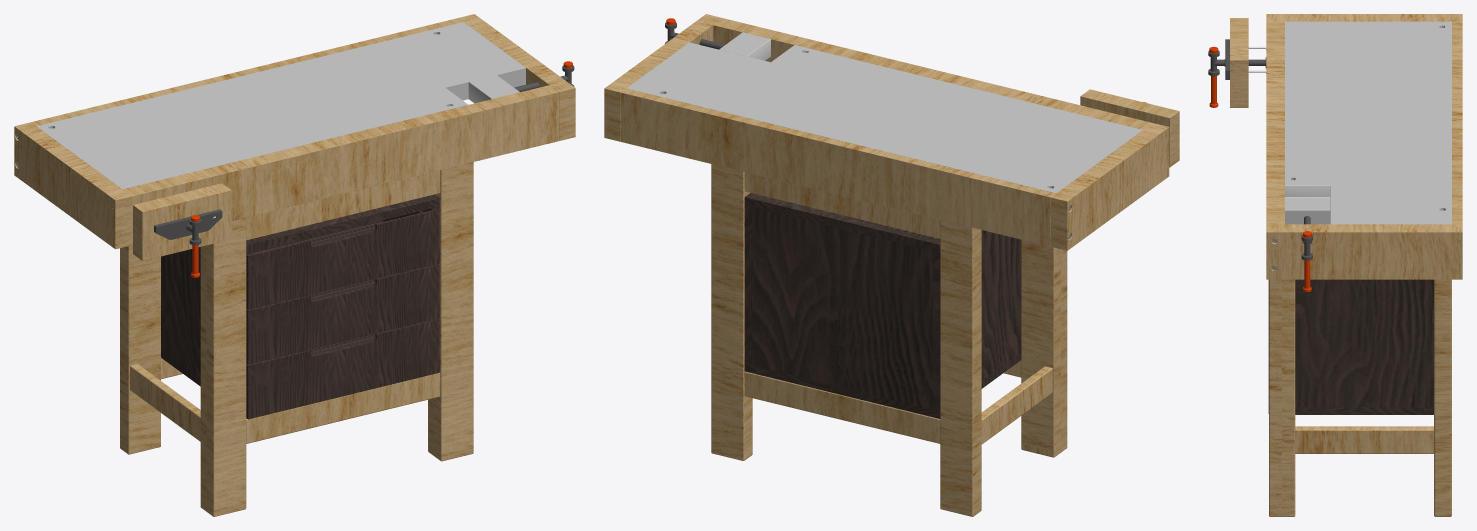
File: CGTrader - Workbench - FBX.fbx
The picture shows the model from 3 angles, left to right: view 1: azimuth 30°, elevation 25°; view 2: azimuth 150°, elevation 25°; view 3: azimuth 270°, elevation 25°; orthographic projection. The views are drawn at different scales.
Parts seen in each view (by area): view 1: top, Plane.003, side01, leg02, leg04, cross supports01.003, side04, leg06, clamp outer, Cube.099, side03, side02 (+6 smaller); view 2: Cube.099, top, side02, leg06, leg05, cross supports01.004, side04, leg01, side01, side03, Cube.093, cross supports01 (+5 smaller); view 3: top, Cube.100, side03, leg05, cross supports01.005, side01, leg03, leg04, side02, clamp outer, side04, Inner clamp (+2 smaller).
Boxes of the visible parts, x1,y1,x2,y2 form: top: (36,22,525,189); Plane.003: (246,208,439,419); side01: (123,85,558,245); leg02: (200,217,246,516); leg04: (428,162,473,461); cross supports01.003: (246,170,440,443); side04: (14,122,131,249); leg06: (120,245,160,454); clamp outer: (133,183,231,260); Cube.099: (161,247,200,378); side03: (458,14,575,140); side02: (31,18,462,126); Cube.099: (752,207,1021,410); top: (627,42,1142,193); side02: (621,88,1055,246); leg06: (940,220,981,516); leg05: (711,164,752,460); cross supports01.004: (744,172,940,443); side04: (1051,123,1169,250); leg01: (1021,239,1060,451); side01: (713,18,1151,129); side03: (604,14,722,141); Cube.093: (744,194,940,252); cross supports01: (981,366,1052,444); top: (1285,21,1451,224); Cube.100: (1295,279,1433,407); side03: (1266,224,1462,279); leg05: (1434,279,1451,516); cross supports01.005: (1295,426,1433,453); side01: (1266,22,1284,224); leg03: (1282,279,1295,510); leg04: (1269,279,1295,516); side02: (1452,22,1462,224); clamp outer: (1230,18,1248,107); side04: (1266,14,1462,21); Inner clamp: (1285,197,1330,224).
Bounding box in the file's own units: 138 × 95.66 × 65.2.
